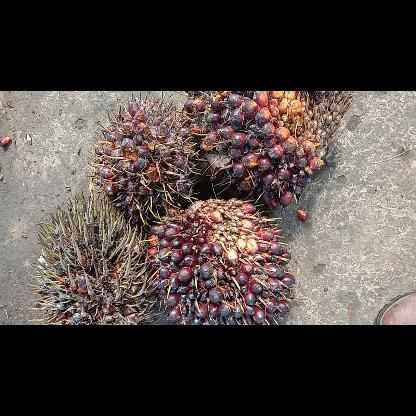Kurang masak: (147, 198, 293, 324), (92, 90, 196, 218)
TBS abnormal: (30, 192, 157, 324)
TBS masak: (183, 91, 354, 209)
